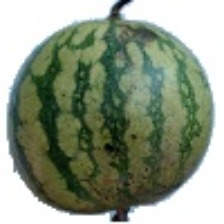watermelon: (0, 47, 198, 219)
